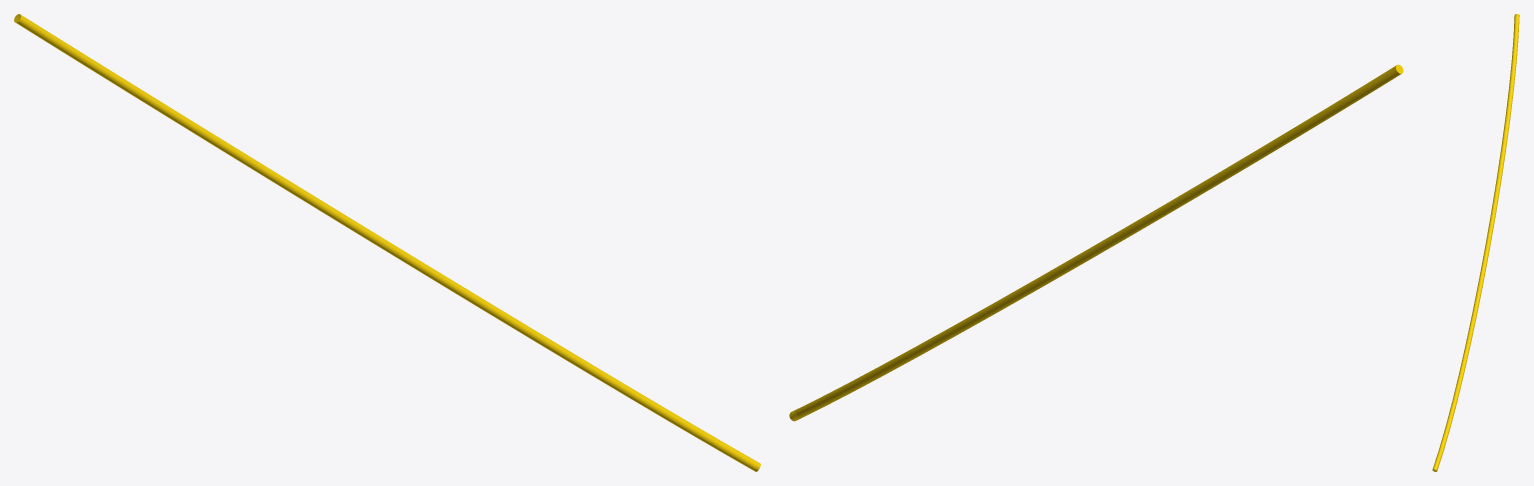
File: Event_420604493_track_5.fbx
3 views of the same model, side by side, from view 1: azimuth 30°, elevation 25°; view 2: azimuth 150°, elevation 25°; view 3: azimuth 270°, elevation 25° (orthographic). The views are drawn at different scales.
Parts seen in each view (by area): view 1: Model; view 2: Model; view 3: Model.
Part boxes in pixels (x1,y1,x2,y2): Model: [14, 14, 760, 471]; Model: [789, 64, 1403, 421]; Model: [1432, 14, 1519, 471].
Size of the model in its own units: 3.18 by 2.55 by 0.6923.
